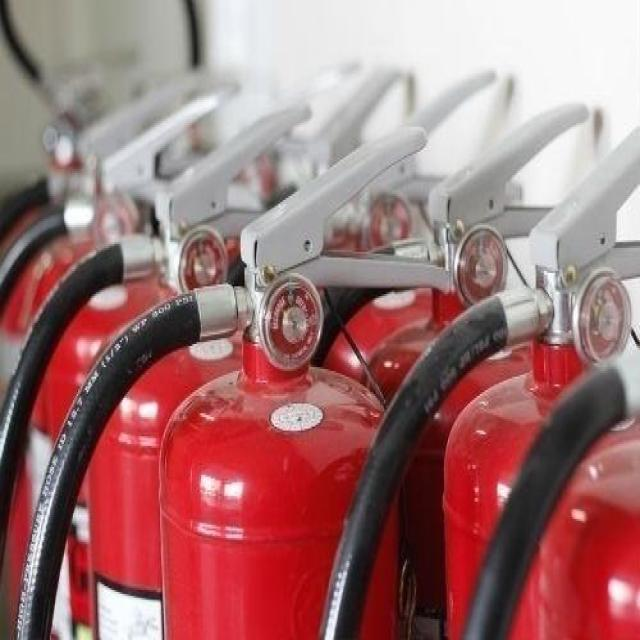fire_extinguisher: (22, 123, 445, 638), (317, 119, 637, 638)
